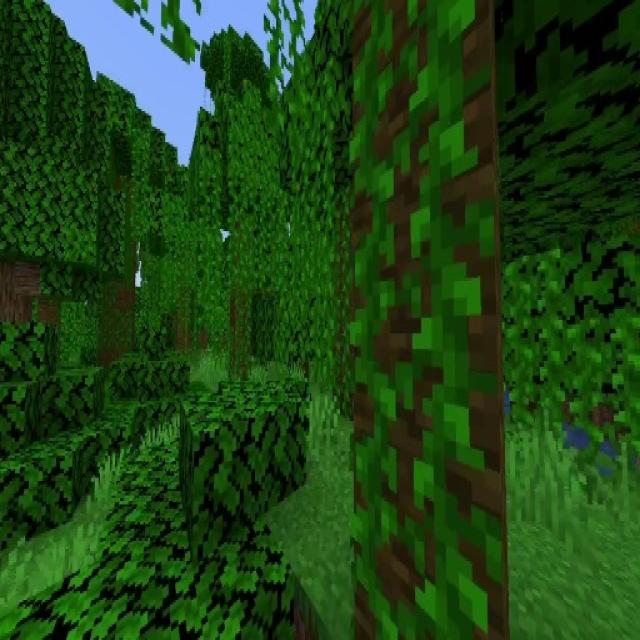jungle_log: (347, 0, 506, 638), (232, 286, 254, 380)
